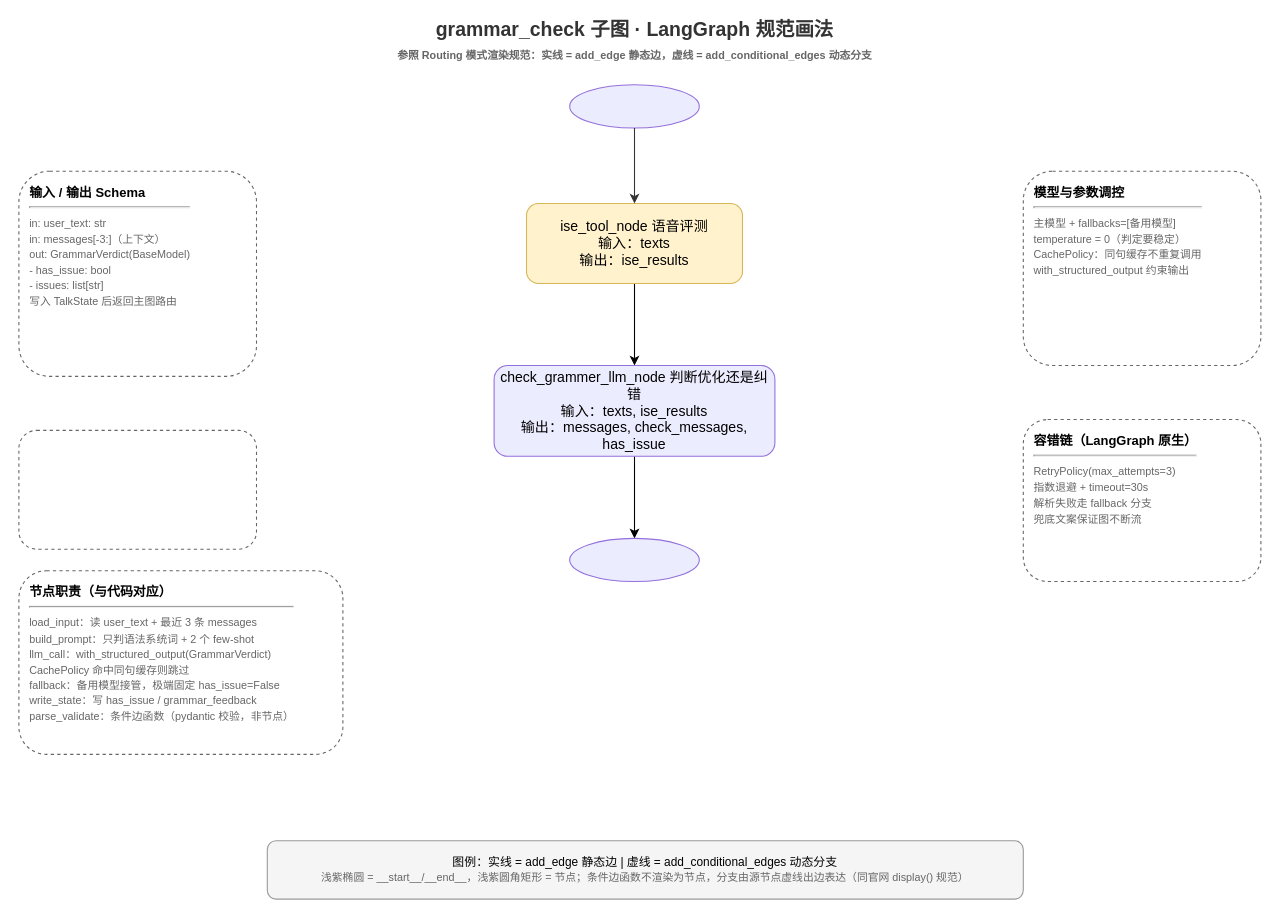
Some shapes in this 1280 by 918 pixel diagram are drawn without their labels. Here are the shapes that lost their labels. From the top down, the centre of each, then its label:
point (634, 106): __start__
point (137, 489): 可观测性 LangSmith 记录每次调用 token 用量与延迟统计
point (634, 559): __end__
